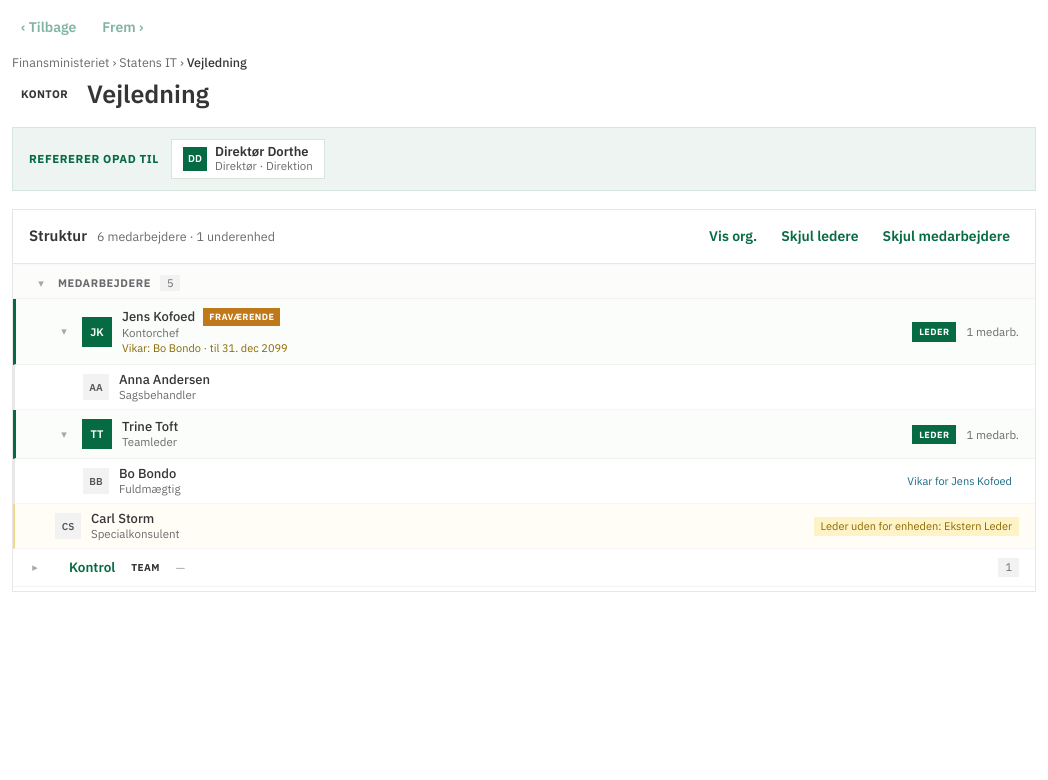
it: StrukturPanel — the recursive read-only Struktur › hides the unit AND people affordances for a below-floor role (Employee)
Click the button "▸".
click(35, 568)  # box x1=27 y1=562 x2=43 y2=573
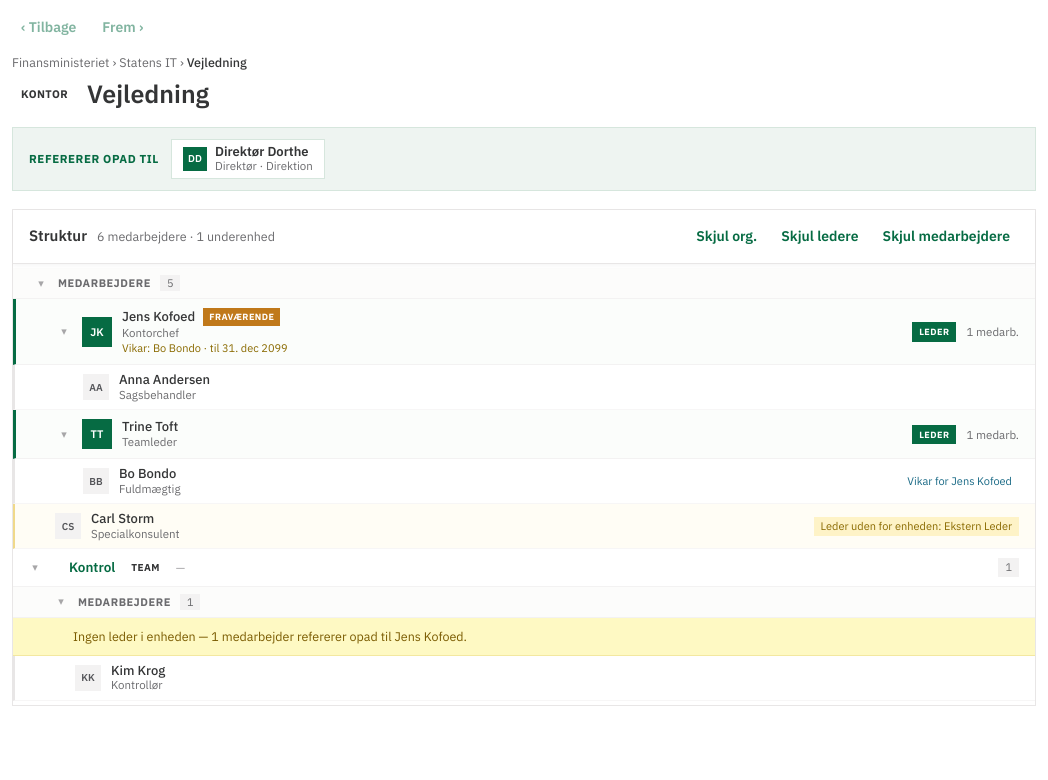
Expected: the heading with test id "title-name" reads "Vejledning", x1=87 y1=77 x2=209 y2=110
Result: the element with test id "leaderless-note" is shown at x1=13 y1=618 x2=1035 y2=656
